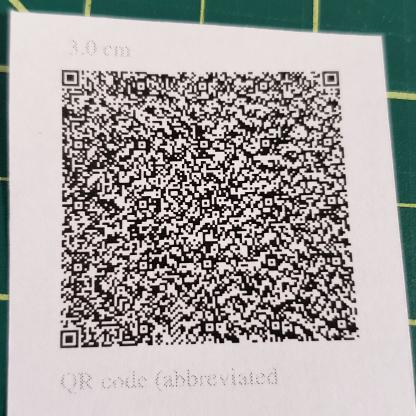qr: (57, 65, 364, 349)
